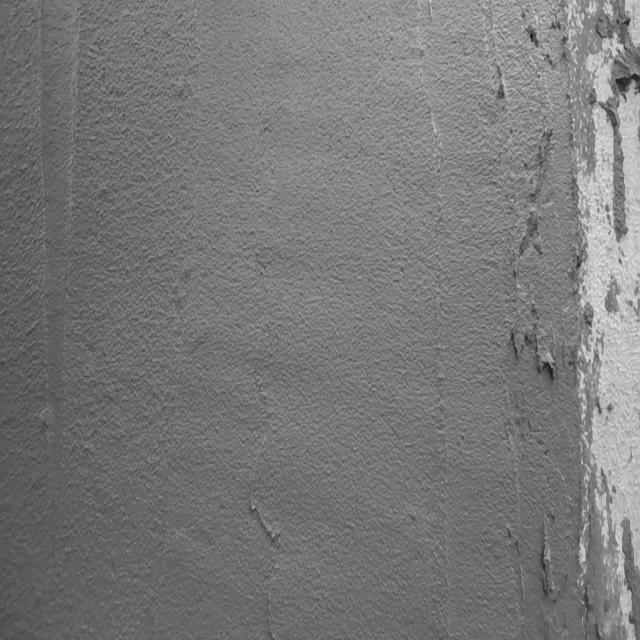trowels marks: (52, 0, 88, 458)
